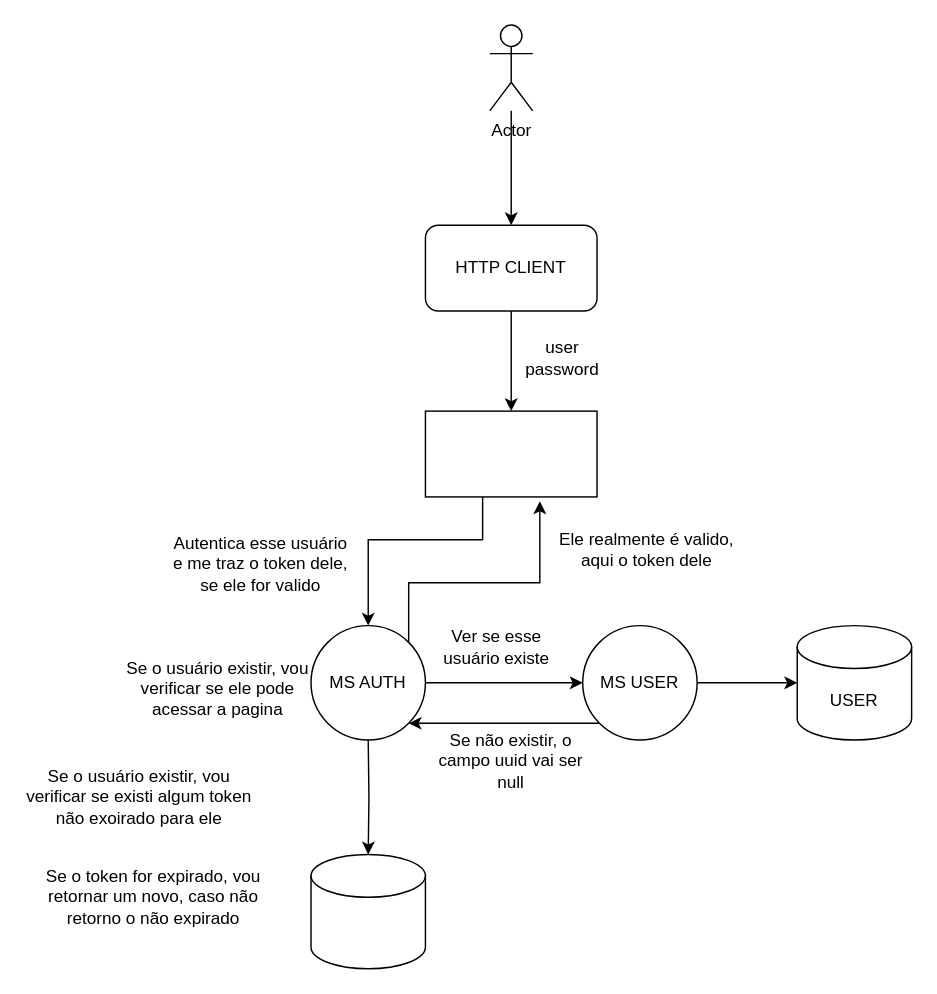
Image size: 937x994. Some labels were removed from this diagram. Here are the shapes that lost their labels. From the top down, the centre of each, then its label:
At pixel 510 453: "API GATEWAY /auth".
At pixel 367 911: "LOG_AUTH".
